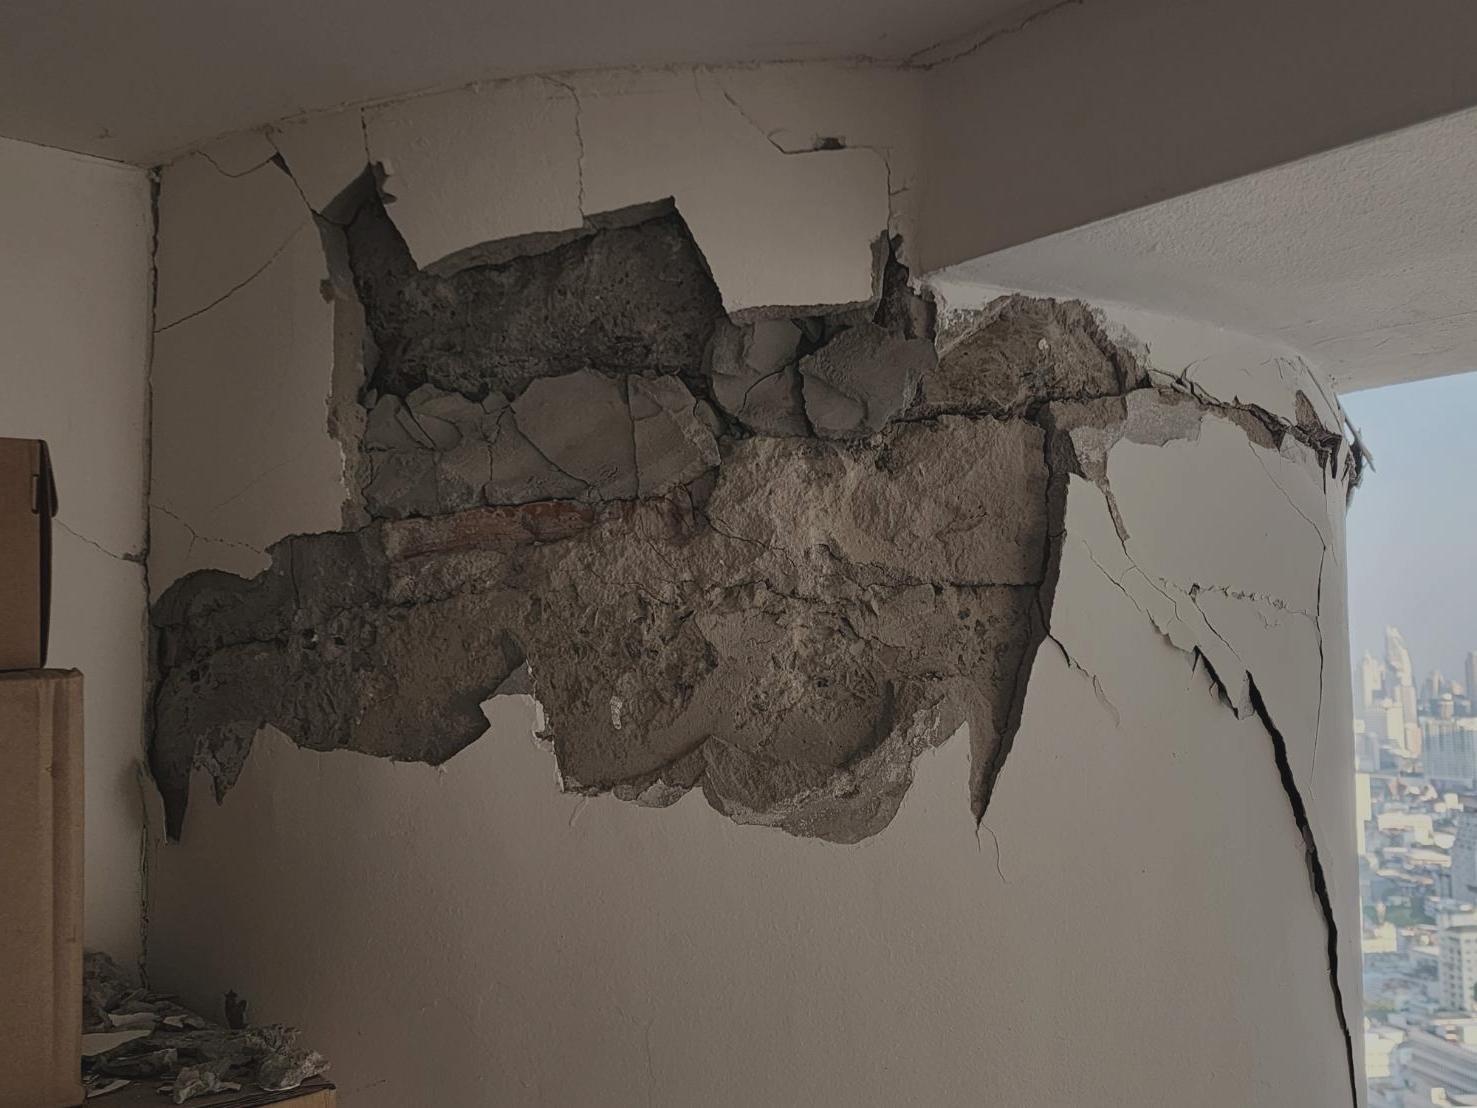High: (142, 165, 1344, 1010)
